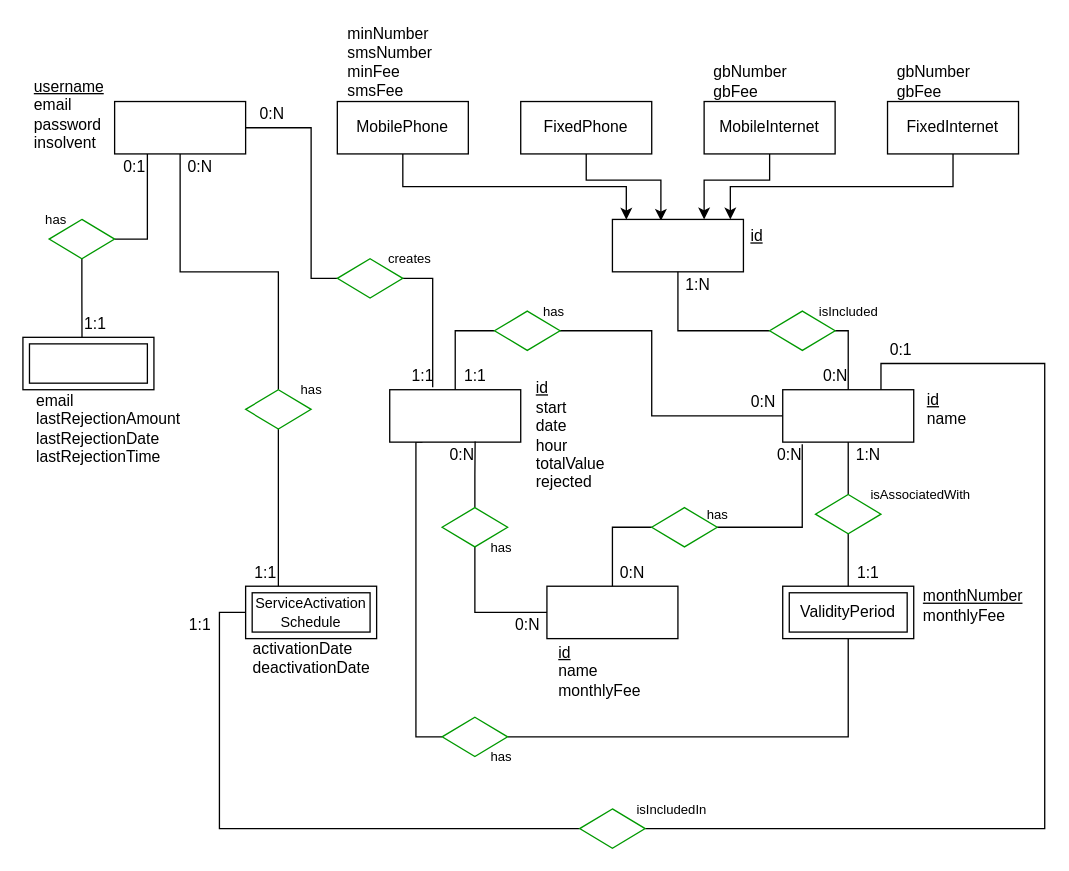
Some shapes in this 1069 by 871 pixel diagram are drawn without their labels. The centre of each missing label's shape, as x and y in pixels:
"AuditingTable" goes at point 88,363.
"CustomerOrder" goes at point 454,415.
"OptionalProduct" goes at point 612,612.
"Service" goes at point 677,245.
"ServicePackage" goes at point 847,415.
"User" goes at point 179,127.
